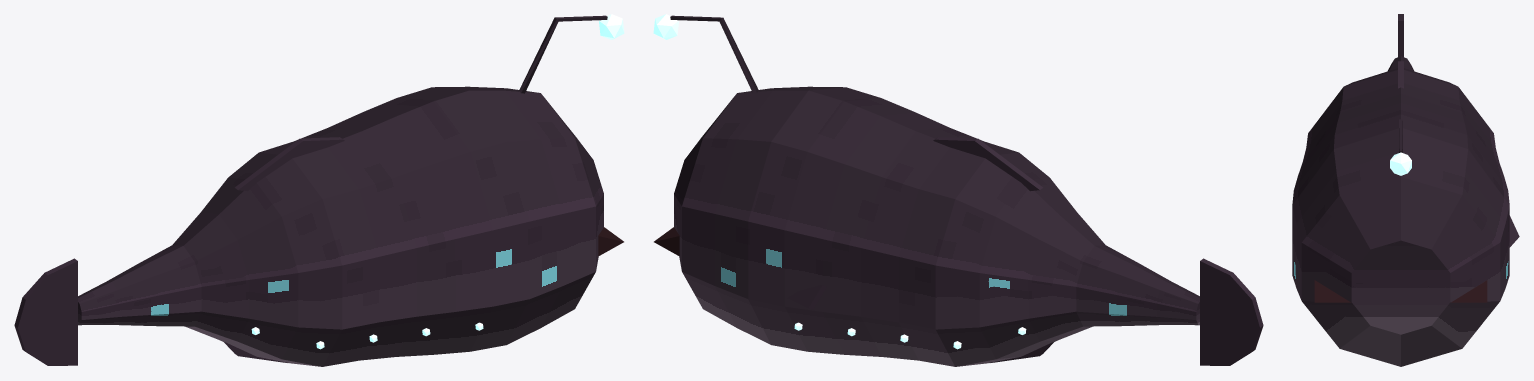
Rendered from anglerfish.glb.
3 views of the same model, side by side, from view 1: azimuth 30°, elevation 25°; view 2: azimuth 150°, elevation 25°; view 3: azimuth 270°, elevation 25° (orthographic). The views are drawn at different scales.
Parts seen in each view (by area): view 1: fish_anglerfish; view 2: fish_anglerfish; view 3: fish_anglerfish.
Part boxes in pixels (x1,y1,x2,y2): fish_anglerfish: (14, 14, 624, 366); fish_anglerfish: (653, 14, 1263, 366); fish_anglerfish: (1292, 14, 1519, 366).
Size of the model in its own units: 1.21 by 0.5778 by 0.4375.
8 materials, 1 textured.
